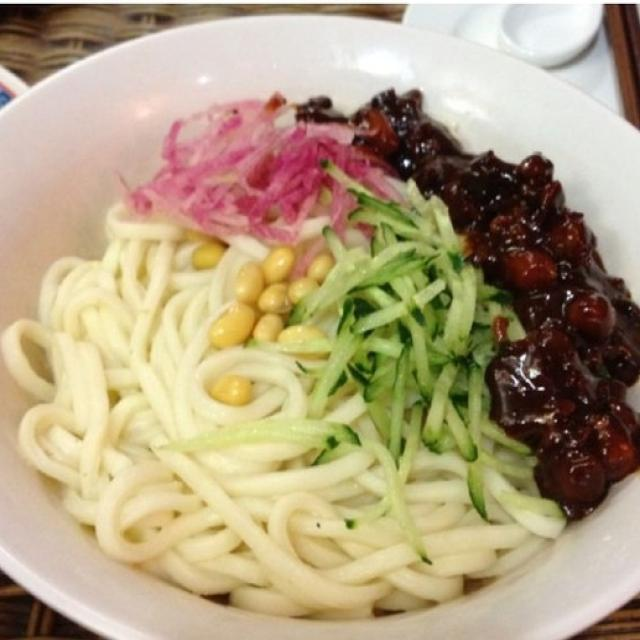面条主食: (21, 58, 631, 610)
